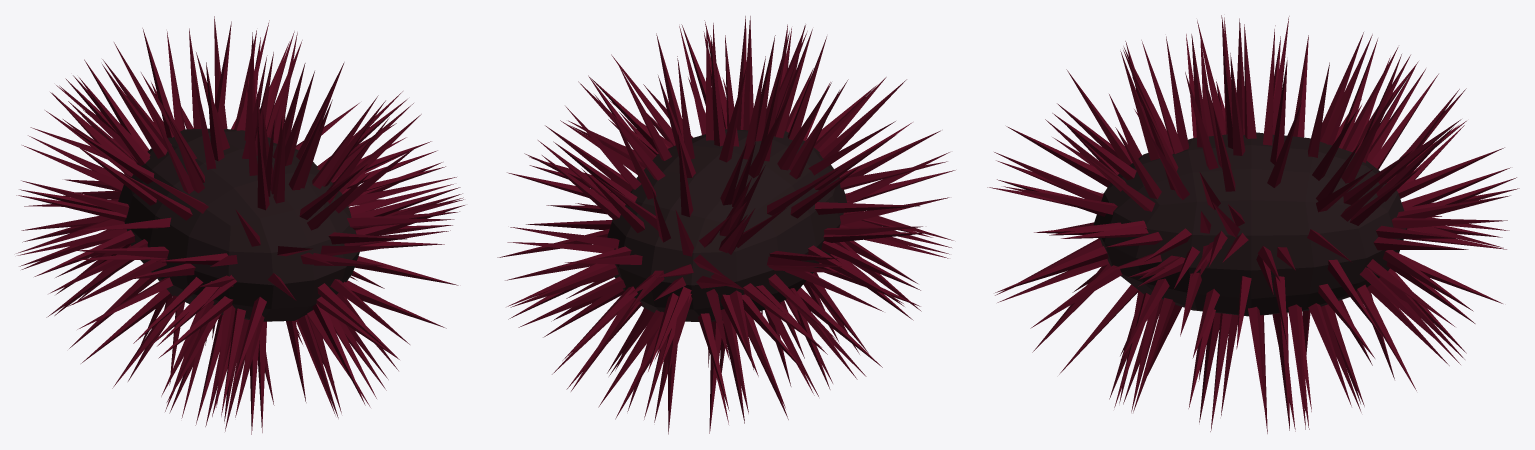
The model's file is urchin.glb.
3 views of the same model, side by side, from view 1: azimuth 30°, elevation 25°; view 2: azimuth 150°, elevation 25°; view 3: azimuth 270°, elevation 25° (orthographic). The views are drawn at different scales.
Parts seen in each view (by area): view 1: Geo_SeaUrchin; view 2: Geo_SeaUrchin; view 3: Geo_SeaUrchin.
Part boxes in pixels (x1,y1,x2,y2): Geo_SeaUrchin: (16,16,464,434); Geo_SeaUrchin: (497,16,955,434); Geo_SeaUrchin: (987,15,1519,433).
Bounding box in the file's own units: 0.8411 × 0.765 × 1.
Materials: 1 (1 with a texture image).
